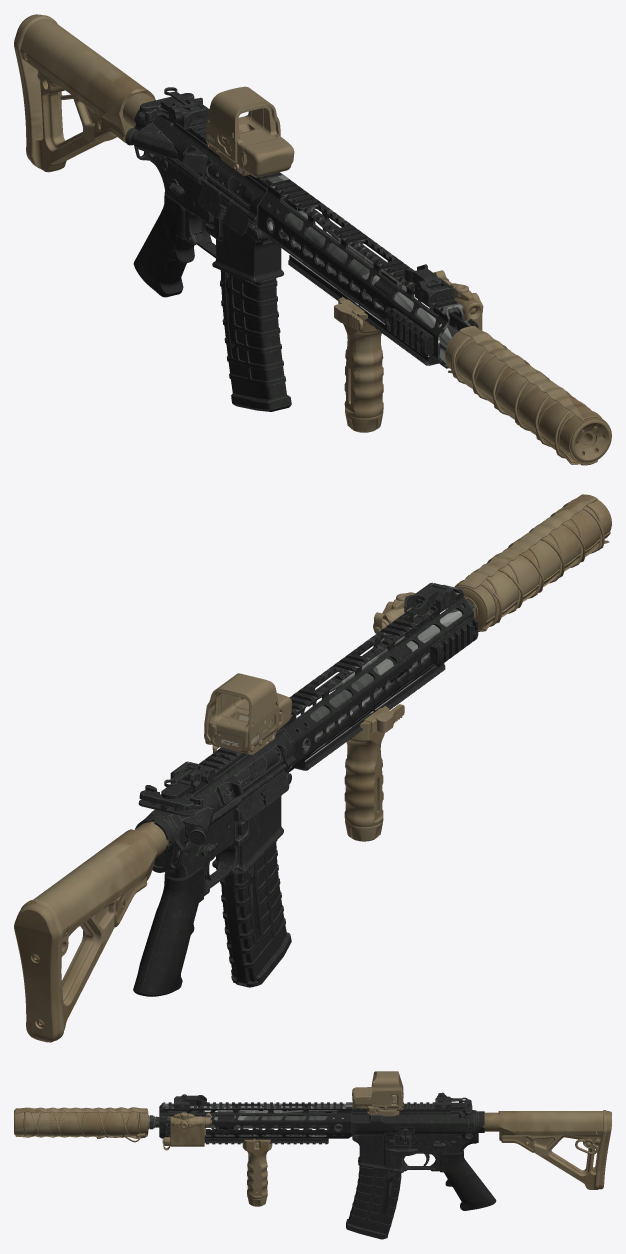
File: tactical_m4_-_tan_-_codmw2022_pbr.glb
The picture shows the model from 3 angles, top to bottom: view 1: azimuth 30°, elevation 25°; view 2: azimuth 150°, elevation 25°; view 3: azimuth 270°, elevation 25°; orthographic projection. The views are drawn at different scales.
Parts seen in each view (by area): view 1: mike4_1.smd_0, mike4_5.smd_4, mike4_3.smd_2, mike4_6.smd_5, mike4_4.smd_3, mike4_2.smd_1; view 2: mike4_1.smd_0, mike4_3.smd_2, mike4_5.smd_4, mike4_6.smd_5, mike4_4.smd_3, mike4_2.smd_1; view 3: mike4_1.smd_0, mike4_3.smd_2, mike4_5.smd_4, mike4_6.smd_5, mike4_2.smd_1, mike4_4.smd_3.
Part boxes in pixels (x1,y1,x2,y2): mike4_1.smd_0: [14, 14, 611, 465]; mike4_5.smd_4: [258, 175, 478, 368]; mike4_3.smd_2: [125, 93, 297, 282]; mike4_6.smd_5: [133, 192, 291, 411]; mike4_4.smd_3: [205, 86, 294, 177]; mike4_2.smd_1: [164, 87, 483, 330]; mike4_1.smd_0: [14, 494, 611, 1042]; mike4_3.smd_2: [135, 726, 295, 896]; mike4_5.smd_4: [283, 584, 478, 772]; mike4_6.smd_5: [133, 598, 474, 996]; mike4_4.smd_3: [204, 673, 291, 754]; mike4_2.smd_1: [164, 582, 455, 793]; mike4_1.smd_0: [14, 1107, 611, 1206]; mike4_3.smd_2: [352, 1099, 484, 1172]; mike4_5.smd_4: [153, 1102, 352, 1144]; mike4_6.smd_5: [149, 1115, 496, 1239]; mike4_2.smd_1: [162, 1092, 467, 1150]; mike4_4.smd_3: [352, 1071, 403, 1116].
Bounding box in the file's own units: 0.0619 × 0.2128 × 0.7087.
Materials: 13 (13 with a texture image).
